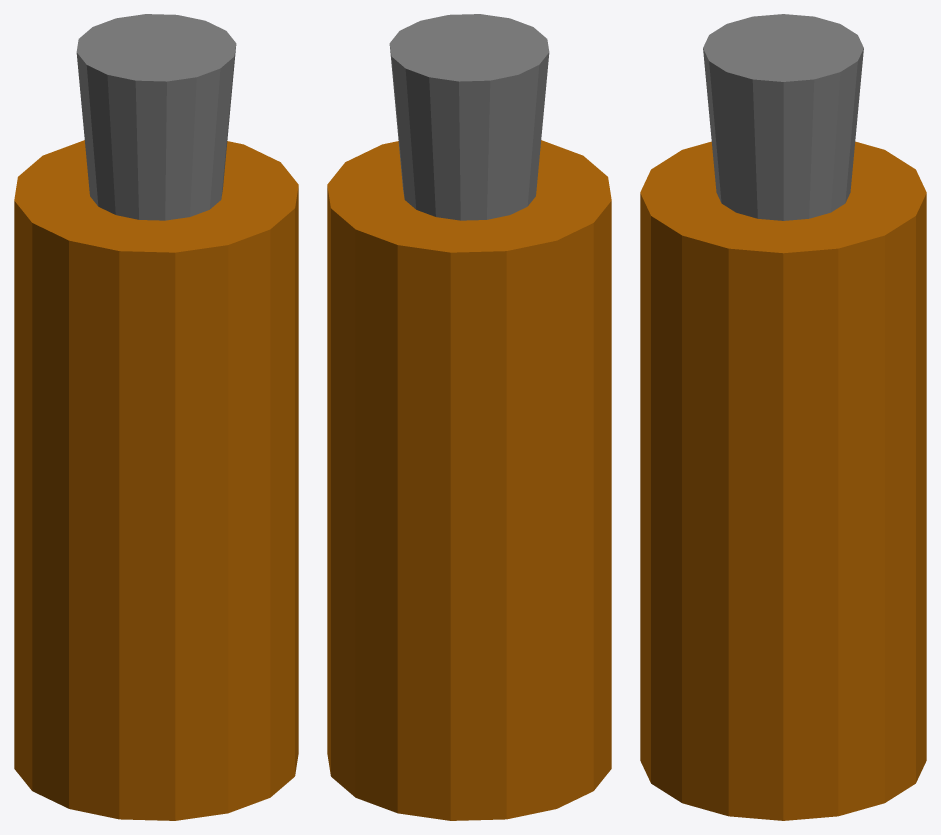
The model's file is Skin Care_2.fbx.
The picture shows the model from 3 angles, left to right: view 1: azimuth 30°, elevation 25°; view 2: azimuth 150°, elevation 25°; view 3: azimuth 270°, elevation 25°; orthographic projection.
Visible parts, largest first — view 1: Skin Care_2; view 2: Skin Care_2; view 3: Skin Care_2.
Part boxes in pixels (box(x1,y1,x2,y2)): Skin Care_2: box(14, 14, 298, 820); Skin Care_2: box(327, 14, 611, 820); Skin Care_2: box(640, 14, 926, 820).
Size of the model in its own units: 0.0575 by 0.1576 by 0.0575.
